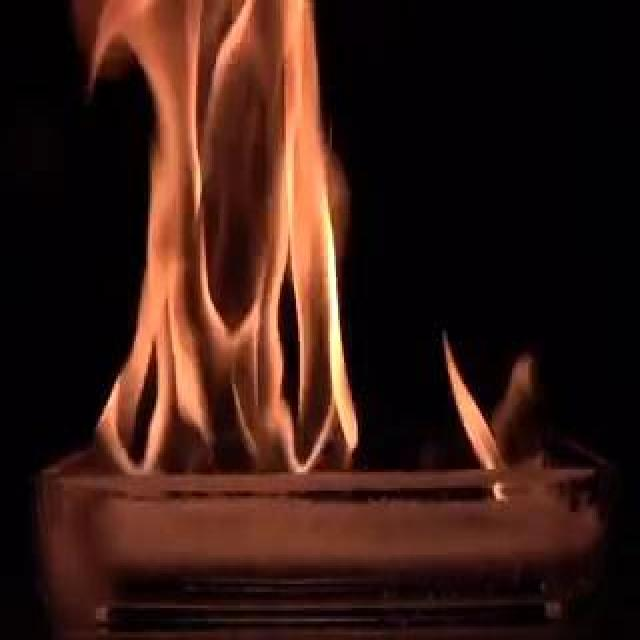Fire: (209, 3, 505, 477)
